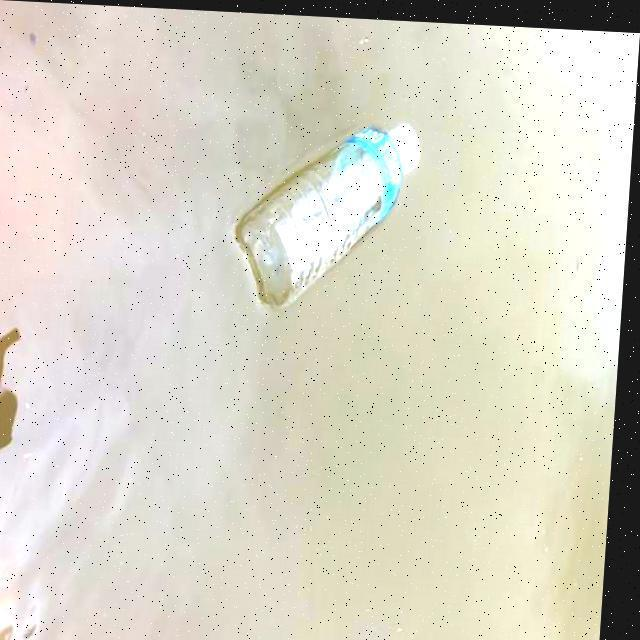Bottle: (227, 114, 438, 316)
